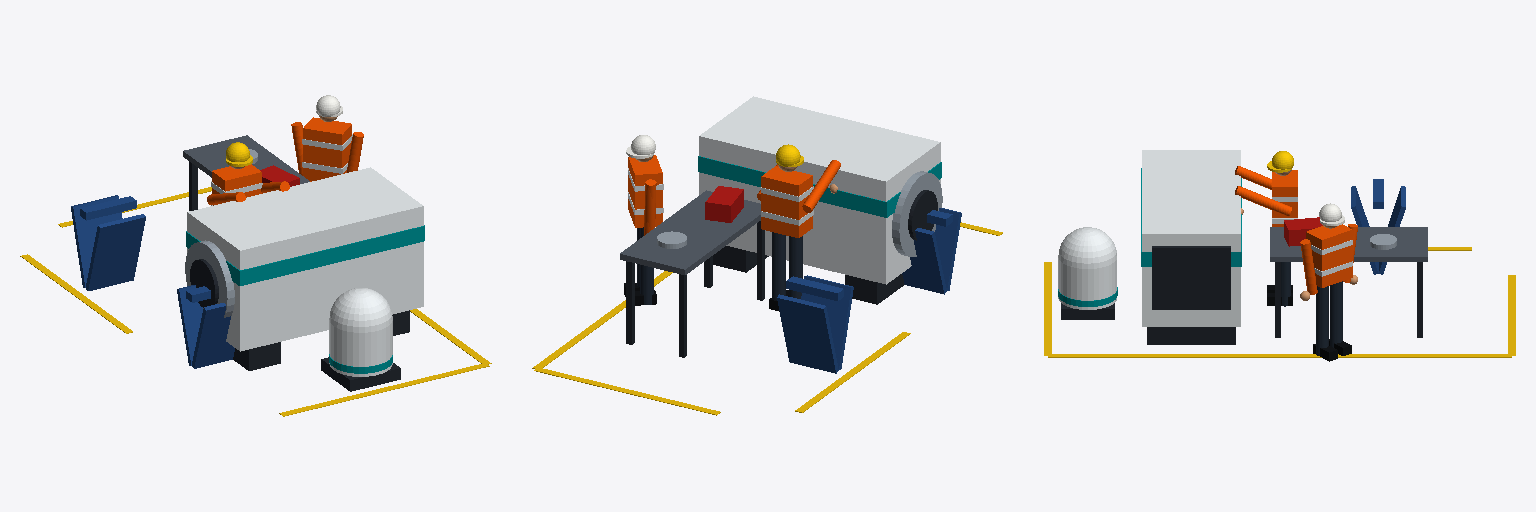
robot.urdf — wind_turbine_assembly:
<?xml version="1.0"?>
<!--
  Wind-turbine assembly station dressing for the AWS small warehouse.

  Purely visual scenery (no collision geometry, so motion planning is unaffected):
  a rotor blade on trestles, a nacelle housing on assembly stands, a rotor hub,
  a workbench, two technicians in high-visibility clothing and a marked assembly
  floor zone. All poses are expressed in warehouse world coordinates; the model
  is merged into the warehouse at the identity pose.

  The blade mesh is generated by generate_turbine_blade_mesh.py.
-->
<robot name="wind_turbine_assembly">

  <material name="turbine_white">
    <color rgba="0.93 0.95 0.96 1.0"/>
  </material>
  <material name="turbine_teal">
    <color rgba="0.0 0.6 0.62 1.0"/>
  </material>
  <material name="steel_grey">
    <color rgba="0.62 0.66 0.70 1.0"/>
  </material>
  <material name="dark_steel">
    <color rgba="0.16 0.18 0.21 1.0"/>
  </material>
  <material name="trestle_blue">
    <color rgba="0.16 0.32 0.55 1.0"/>
  </material>
  <material name="high_visibility_orange">
    <color rgba="0.95 0.36 0.03 1.0"/>
  </material>
  <material name="reflective_silver">
    <color rgba="0.87 0.89 0.90 1.0"/>
  </material>
  <material name="work_trouser_navy">
    <color rgba="0.16 0.20 0.25 1.0"/>
  </material>
  <material name="boot_black">
    <color rgba="0.08 0.09 0.10 1.0"/>
  </material>
  <material name="skin">
    <color rgba="0.85 0.63 0.46 1.0"/>
  </material>
  <material name="helmet_white">
    <color rgba="0.96 0.96 0.94 1.0"/>
  </material>
  <material name="helmet_yellow">
    <color rgba="0.98 0.80 0.05 1.0"/>
  </material>
  <material name="marking_yellow">
    <color rgba="0.95 0.76 0.06 1.0"/>
  </material>
  <material name="toolbox_red">
    <color rgba="0.72 0.12 0.10 1.0"/>
  </material>
  <material name="bench_top_grey">
    <color rgba="0.35 0.38 0.42 1.0"/>
  </material>

  <link name="assembly_area_root"/>

  <!-- rotor blade resting on two trestles, root to the south -->
  <link name="turbine_blade">
    <visual>
      <origin xyz="0 0 0" rpy="0 0 0"/>
      <geometry>
        <mesh filename="meshes/_local/turbine_blade.stl"/>
      </geometry>
      <material name="turbine_white"/>
    </visual>
  </link>
  <joint name="turbine_blade_joint" type="fixed">
    <parent link="assembly_area_root"/>
    <child link="turbine_blade"/>
    <origin xyz="-0.35 4.6 0.88" rpy="0 0 1.5708"/>
  </joint>

  <link name="blade_trestles">
    <!-- south trestle: beam plus two splayed leg panels -->
    <visual>
      <origin xyz="-0.35 5.5 0.74" rpy="0 0 0"/>
      <geometry>
        <box size="0.55 0.12 0.08"/>
      </geometry>
      <material name="trestle_blue"/>
    </visual>
    <visual>
      <origin xyz="-0.35 5.36 0.36" rpy="0.32 0 0"/>
      <geometry>
        <box size="0.5 0.05 0.74"/>
      </geometry>
      <material name="trestle_blue"/>
    </visual>
    <visual>
      <origin xyz="-0.35 5.64 0.36" rpy="-0.32 0 0"/>
      <geometry>
        <box size="0.5 0.05 0.74"/>
      </geometry>
      <material name="trestle_blue"/>
    </visual>
    <!-- north trestle, taller because the blade thins towards its tip -->
    <visual>
      <origin xyz="-0.35 7.5 0.79" rpy="0 0 0"/>
      <geometry>
        <box size="0.55 0.12 0.08"/>
      </geometry>
      <material name="trestle_blue"/>
    </visual>
    <visual>
      <origin xyz="-0.35 7.36 0.385" rpy="0.30 0 0"/>
      <geometry>
        <box size="0.5 0.05 0.79"/>
      </geometry>
      <material name="trestle_blue"/>
    </visual>
    <visual>
      <origin xyz="-0.35 7.64 0.385" rpy="-0.30 0 0"/>
      <geometry>
        <box size="0.5 0.05 0.79"/>
      </geometry>
      <material name="trestle_blue"/>
    </visual>
  </link>
  <joint name="blade_trestles_joint" type="fixed">
    <parent link="assembly_area_root"/>
    <child link="blade_trestles"/>
    <origin xyz="0 0 0.03" rpy="0 0 0"/>
  </joint>

  <!-- nacelle housing on two assembly stands -->
  <link name="nacelle_housing">
    <visual>
      <origin xyz="0.0 5.6 0.125" rpy="0 0 0"/>
      <geometry>
        <box size="0.35 0.9 0.25"/>
      </geometry>
      <material name="dark_steel"/>
    </visual>
    <visual>
      <origin xyz="1.4 5.6 0.125" rpy="0 0 0"/>
      <geometry>
        <box size="0.35 0.9 0.25"/>
      </geometry>
      <material name="dark_steel"/>
    </visual>
    <visual>
      <origin xyz="0.7 5.6 0.78" rpy="0 0 0"/>
      <geometry>
        <box size="2.0 1.0 1.05"/>
      </geometry>
      <material name="turbine_white"/>
    </visual>
    <!-- teal accent band -->
    <visual>
      <origin xyz="0.7 5.6 1.02" rpy="0 0 0"/>
      <geometry>
        <box size="2.02 1.02 0.16"/>
      </geometry>
      <material name="turbine_teal"/>
    </visual>
    <!-- rotor flange on the west face -->
    <visual>
      <origin xyz="-0.34 5.6 0.78" rpy="0 1.5708 0"/>
      <geometry>
        <cylinder radius="0.40" length="0.08"/>
      </geometry>
      <material name="steel_grey"/>
    </visual>
    <visual>
      <origin xyz="-0.39 5.6 0.78" rpy="0 1.5708 0"/>
      <geometry>
        <cylinder radius="0.24" length="0.06"/>
      </geometry>
      <material name="dark_steel"/>
    </visual>
    <!-- cooling vents on the east face -->
    <visual>
      <origin xyz="1.72 5.6 0.82" rpy="0 0 0"/>
      <geometry>
        <box size="0.06 0.8 0.7"/>
      </geometry>
      <material name="dark_steel"/>
    </visual>
  </link>
  <joint name="nacelle_housing_joint" type="fixed">
    <parent link="assembly_area_root"/>
    <child link="nacelle_housing"/>
    <origin xyz="0 0 0.03" rpy="0 0 0"/>
  </joint>

  <!-- rotor hub waiting south of the nacelle -->
  <link name="rotor_hub">
    <visual>
      <origin xyz="0.7 4.55 0.06" rpy="0 0 0"/>
      <geometry>
        <box size="0.55 0.55 0.12"/>
      </geometry>
      <material name="dark_steel"/>
    </visual>
    <visual>
      <origin xyz="0.7 4.55 0.35" rpy="0 0 0"/>
      <geometry>
        <cylinder radius="0.30" length="0.46"/>
      </geometry>
      <material name="turbine_white"/>
    </visual>
    <visual>
      <origin xyz="0.7 4.55 0.58" rpy="0 0 0"/>
      <geometry>
        <sphere radius="0.30"/>
      </geometry>
      <material name="turbine_white"/>
    </visual>
    <visual>
      <origin xyz="0.7 4.55 0.19" rpy="0 0 0"/>
      <geometry>
        <cylinder radius="0.305" length="0.07"/>
      </geometry>
      <material name="turbine_teal"/>
    </visual>
  </link>
  <joint name="rotor_hub_joint" type="fixed">
    <parent link="assembly_area_root"/>
    <child link="rotor_hub"/>
    <origin xyz="0 0 0.03" rpy="0 0 0"/>
  </joint>

  <!-- workbench between the delivery point and the nacelle -->
  <link name="workbench">
    <visual>
      <origin xyz="1.1 7.2 0.9" rpy="0 0 0"/>
      <geometry>
        <box size="0.7 1.6 0.06"/>
      </geometry>
      <material name="bench_top_grey"/>
    </visual>
    <visual>
      <origin xyz="0.82 6.48 0.435" rpy="0 0 0"/>
      <geometry>
        <box size="0.06 0.06 0.87"/>
      </geometry>
      <material name="dark_steel"/>
    </visual>
    <visual>
      <origin xyz="1.38 6.48 0.435" rpy="0 0 0"/>
      <geometry>
        <box size="0.06 0.06 0.87"/>
      </geometry>
      <material name="dark_steel"/>
    </visual>
    <visual>
      <origin xyz="0.82 7.92 0.435" rpy="0 0 0"/>
      <geometry>
        <box size="0.06 0.06 0.87"/>
      </geometry>
      <material name="dark_steel"/>
    </visual>
    <visual>
      <origin xyz="1.38 7.92 0.435" rpy="0 0 0"/>
      <geometry>
        <box size="0.06 0.06 0.87"/>
      </geometry>
      <material name="dark_steel"/>
    </visual>
    <!-- toolbox and a spare flange on the bench top -->
    <visual>
      <origin xyz="1.05 6.75 1.02" rpy="0 0 0.2"/>
      <geometry>
        <box size="0.25 0.38 0.18"/>
      </geometry>
      <material name="toolbox_red"/>
    </visual>
    <visual>
      <origin xyz="1.15 7.55 0.955" rpy="0 0 0"/>
      <geometry>
        <cylinder radius="0.14" length="0.05"/>
      </geometry>
      <material name="steel_grey"/>
    </visual>
  </link>
  <joint name="workbench_joint" type="fixed">
    <parent link="assembly_area_root"/>
    <child link="workbench"/>
    <origin xyz="0 0 0.03" rpy="0 0 0"/>
  </joint>

  <!-- technician awaiting deliveries at the workbench, facing the drop-off point -->
  <link name="assembly_technician_one">
    <visual>
      <origin xyz="0 0.09 0.41" rpy="0 0 0"/>
      <geometry>
        <cylinder radius="0.065" length="0.82"/>
      </geometry>
      <material name="work_trouser_navy"/>
    </visual>
    <visual>
      <origin xyz="0 -0.09 0.41" rpy="0 0 0"/>
      <geometry>
        <cylinder radius="0.065" length="0.82"/>
      </geometry>
      <material name="work_trouser_navy"/>
    </visual>
    <visual>
      <origin xyz="0.05 0.09 0.05" rpy="0 0 0"/>
      <geometry>
        <box size="0.26 0.11 0.10"/>
      </geometry>
      <material name="boot_black"/>
    </visual>
    <visual>
      <origin xyz="0.05 -0.09 0.05" rpy="0 0 0"/>
      <geometry>
        <box size="0.26 0.11 0.10"/>
      </geometry>
      <material name="boot_black"/>
    </visual>
    <visual>
      <origin xyz="0 0 1.09" rpy="0 0 0"/>
      <geometry>
        <box size="0.26 0.40 0.54"/>
      </geometry>
      <material name="high_visibility_orange"/>
    </visual>
    <visual>
      <origin xyz="0 0 0.98" rpy="0 0 0"/>
      <geometry>
        <box size="0.27 0.41 0.055"/>
      </geometry>
      <material name="reflective_silver"/>
    </visual>
    <visual>
      <origin xyz="0 0 1.22" rpy="0 0 0"/>
      <geometry>
        <box size="0.27 0.41 0.055"/>
      </geometry>
      <material name="reflective_silver"/>
    </visual>
    <visual>
      <origin xyz="0 0.265 1.03" rpy="-0.16 0 0"/>
      <geometry>
        <cylinder radius="0.052" length="0.60"/>
      </geometry>
      <material name="high_visibility_orange"/>
    </visual>
    <visual>
      <origin xyz="0 -0.265 1.03" rpy="0.16 0 0"/>
      <geometry>
        <cylinder radius="0.052" length="0.60"/>
      </geometry>
      <material name="high_visibility_orange"/>
    </visual>
    <visual>
      <origin xyz="0 0.313 0.72" rpy="0 0 0"/>
      <geometry>
        <sphere radius="0.052"/>
      </geometry>
      <material name="skin"/>
    </visual>
    <visual>
      <origin xyz="0 -0.313 0.72" rpy="0 0 0"/>
      <geometry>
        <sphere radius="0.052"/>
      </geometry>
      <material name="skin"/>
    </visual>
    <visual>
      <origin xyz="0.02 0 1.50" rpy="0 0 0"/>
      <geometry>
        <sphere radius="0.10"/>
      </geometry>
      <material name="skin"/>
    </visual>
    <visual>
      <origin xyz="0.02 0 1.545" rpy="0 0 0"/>
      <geometry>
        <sphere radius="0.115"/>
      </geometry>
      <material name="helmet_white"/>
    </visual>
    <visual>
      <origin xyz="0.05 0 1.50" rpy="0 0 0"/>
      <geometry>
        <cylinder radius="0.13" length="0.025"/>
      </geometry>
      <material name="helmet_white"/>
    </visual>
  </link>
  <joint name="assembly_technician_one_joint" type="fixed">
    <parent link="assembly_area_root"/>
    <child link="assembly_technician_one"/>
    <origin xyz="1.75 7.0 0.03" rpy="0 0 0.68"/>
  </joint>

  <!-- technician working on the nacelle, facing it from the north -->
  <link name="assembly_technician_two">
    <visual>
      <origin xyz="0 0.09 0.41" rpy="0 0 0"/>
      <geometry>
        <cylinder radius="0.065" length="0.82"/>
      </geometry>
      <material name="work_trouser_navy"/>
    </visual>
    <visual>
      <origin xyz="0 -0.09 0.41" rpy="0 0 0"/>
      <geometry>
        <cylinder radius="0.065" length="0.82"/>
      </geometry>
      <material name="work_trouser_navy"/>
    </visual>
    <visual>
      <origin xyz="0.05 0.09 0.05" rpy="0 0 0"/>
      <geometry>
        <box size="0.26 0.11 0.10"/>
      </geometry>
      <material name="boot_black"/>
    </visual>
    <visual>
      <origin xyz="0.05 -0.09 0.05" rpy="0 0 0"/>
      <geometry>
        <box size="0.26 0.11 0.10"/>
      </geometry>
      <material name="boot_black"/>
    </visual>
    <visual>
      <origin xyz="0 0 1.09" rpy="0 0 0"/>
      <geometry>
        <box size="0.26 0.40 0.54"/>
      </geometry>
      <material name="high_visibility_orange"/>
    </visual>
    <visual>
      <origin xyz="0 0 0.98" rpy="0 0 0"/>
      <geometry>
        <box size="0.27 0.41 0.055"/>
      </geometry>
      <material name="reflective_silver"/>
    </visual>
    <visual>
      <origin xyz="0 0 1.22" rpy="0 0 0"/>
      <geometry>
        <box size="0.27 0.41 0.055"/>
      </geometry>
      <material name="reflective_silver"/>
    </visual>
    <!-- arms reaching forward towards the nacelle -->
    <visual>
      <origin xyz="0.22 0.24 1.22" rpy="0 1.15 0"/>
      <geometry>
        <cylinder radius="0.052" length="0.60"/>
      </geometry>
      <material name="high_visibility_orange"/>
    </visual>
    <visual>
      <origin xyz="0.22 -0.24 1.22" rpy="0 1.15 0"/>
      <geometry>
        <cylinder radius="0.052" length="0.60"/>
      </geometry>
      <material name="high_visibility_orange"/>
    </visual>
    <visual>
      <origin xyz="0.47 0.24 1.10" rpy="0 0 0"/>
      <geometry>
        <sphere radius="0.052"/>
      </geometry>
      <material name="skin"/>
    </visual>
    <visual>
      <origin xyz="0.47 -0.24 1.10" rpy="0 0 0"/>
      <geometry>
        <sphere radius="0.052"/>
      </geometry>
      <material name="skin"/>
    </visual>
    <visual>
      <origin xyz="0.02 0 1.50" rpy="0 0 0"/>
      <geometry>
        <sphere radius="0.10"/>
      </geometry>
      <material name="skin"/>
    </visual>
    <visual>
      <origin xyz="0.02 0 1.545" rpy="0 0 0"/>
      <geometry>
        <sphere radius="0.115"/>
      </geometry>
      <material name="helmet_yellow"/>
    </visual>
    <visual>
      <origin xyz="0.05 0 1.50" rpy="0 0 0"/>
      <geometry>
        <cylinder radius="0.13" length="0.025"/>
      </geometry>
      <material name="helmet_yellow"/>
    </visual>
  </link>
  <joint name="assembly_technician_two_joint" type="fixed">
    <parent link="assembly_area_root"/>
    <child link="assembly_technician_two"/>
    <origin xyz="0.5 6.55 0.03" rpy="0 0 -1.5708"/>
  </joint>

  <!-- yellow floor marking framing the assembly zone; the west and north strips
       stop short of the warehouse pallets and shelves already standing there -->
  <link name="assembly_zone_marking">
    <visual>
      <origin xyz="-0.72 7.45 0.003" rpy="0 0 0"/>
      <geometry>
        <box size="0.08 2.0 0.006"/>
      </geometry>
      <material name="marking_yellow"/>
    </visual>
    <visual>
      <origin xyz="1.85 6.5 0.003" rpy="0 0 0"/>
      <geometry>
        <box size="0.08 4.7 0.006"/>
      </geometry>
      <material name="marking_yellow"/>
    </visual>
    <visual>
      <origin xyz="0.725 4.15 0.003" rpy="0 0 0"/>
      <geometry>
        <box size="2.25 0.08 0.006"/>
      </geometry>
      <material name="marking_yellow"/>
    </visual>
    <visual>
      <origin xyz="0.875 8.85 0.003" rpy="0 0 0"/>
      <geometry>
        <box size="1.95 0.08 0.006"/>
      </geometry>
      <material name="marking_yellow"/>
    </visual>
  </link>
  <joint name="assembly_zone_marking_joint" type="fixed">
    <parent link="assembly_area_root"/>
    <child link="assembly_zone_marking"/>
    <origin xyz="0 0 0.03" rpy="0 0 0"/>
  </joint>

</robot>

--- What the picture shows (computed from the rendered views, not written in the file) ---
The picture shows the robot from 3 angles, left to right: view 1: azimuth 30°, elevation 25°; view 2: azimuth 150°, elevation 25°; view 3: azimuth 270°, elevation 25°; orthographic projection.
Robot: wind_turbine_assembly — 9 links, 8 joints (8 fixed); root link assembly_area_root; default pose: all joints at 0.
Visible links, largest first — view 1: nacelle_housing, blade_trestles, rotor_hub, assembly_technician_one, workbench, assembly_zone_marking, assembly_technician_two; view 2: nacelle_housing, blade_trestles, workbench, assembly_technician_two, assembly_technician_one, assembly_zone_marking; view 3: nacelle_housing, assembly_technician_one, rotor_hub, workbench, assembly_zone_marking, assembly_technician_two, blade_trestles.
Boxes of the visible links, x1=… form: nacelle_housing: x1=185, y1=167, x2=424, y2=370; blade_trestles: x1=71, y1=195, x2=234, y2=368; rotor_hub: x1=321, y1=288, x2=400, y2=391; assembly_technician_one: x1=291, y1=95, x2=363, y2=181; workbench: x1=183, y1=135, x2=309, y2=210; assembly_zone_marking: x1=20, y1=187, x2=491, y2=416; assembly_technician_two: x1=207, y1=142, x2=289, y2=205; nacelle_housing: x1=698, y1=96, x2=942, y2=304; blade_trestles: x1=777, y1=208, x2=961, y2=373; workbench: x1=620, y1=186, x2=764, y2=357; assembly_technician_two: x1=757, y1=144, x2=840, y2=311; assembly_technician_one: x1=624, y1=135, x2=663, y2=305; assembly_zone_marking: x1=532, y1=222, x2=1002, y2=415; nacelle_housing: x1=1141, y1=150, x2=1241, y2=344; assembly_technician_one: x1=1300, y1=203, x2=1357, y2=361; rotor_hub: x1=1058, y1=227, x2=1117, y2=319; workbench: x1=1270, y1=217, x2=1427, y2=337; assembly_zone_marking: x1=1044, y1=247, x2=1515, y2=357; assembly_technician_two: x1=1235, y1=151, x2=1297, y2=306; blade_trestles: x1=1351, y1=179, x2=1405, y2=274.
Bounding box of the posed robot: 2.76 × 4.78 × 1.66 m (x, y, z).
0 mesh visuals loaded from 1 distinct referenced files (none loaded); not drawn: 1 (reference not matched to a file when rendering).
